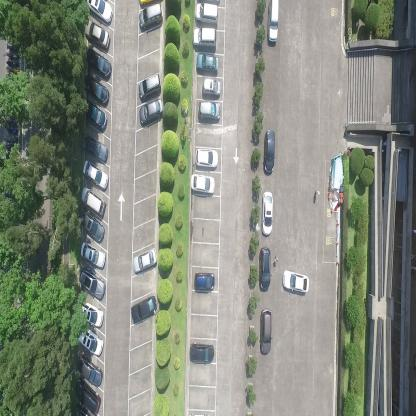car: (75, 375, 101, 415), (81, 96, 108, 133), (78, 266, 106, 301), (83, 48, 112, 81), (80, 131, 108, 165), (80, 207, 105, 245), (131, 293, 158, 328), (79, 184, 106, 219), (77, 350, 103, 386), (81, 158, 109, 190), (82, 76, 110, 108), (79, 237, 106, 270), (77, 322, 103, 356), (84, 19, 110, 53), (78, 297, 103, 329), (283, 268, 310, 297), (138, 96, 164, 126), (132, 245, 157, 276), (139, 2, 163, 33), (138, 71, 161, 102), (86, 0, 113, 26), (192, 25, 218, 50), (259, 309, 273, 354), (266, 0, 279, 45), (190, 173, 215, 196), (194, 52, 219, 75), (188, 342, 215, 363), (263, 129, 275, 176), (262, 192, 274, 238), (194, 146, 218, 169), (198, 99, 221, 123), (193, 270, 216, 293), (194, 3, 218, 24), (259, 247, 270, 291), (203, 77, 221, 99)
